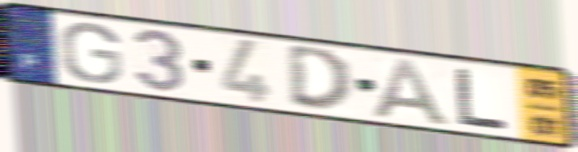3: (129, 27, 187, 95)
4: (218, 36, 276, 109)
A: (370, 55, 455, 129)
D: (284, 45, 357, 115)
G: (58, 21, 125, 85)
L: (453, 65, 513, 132)
